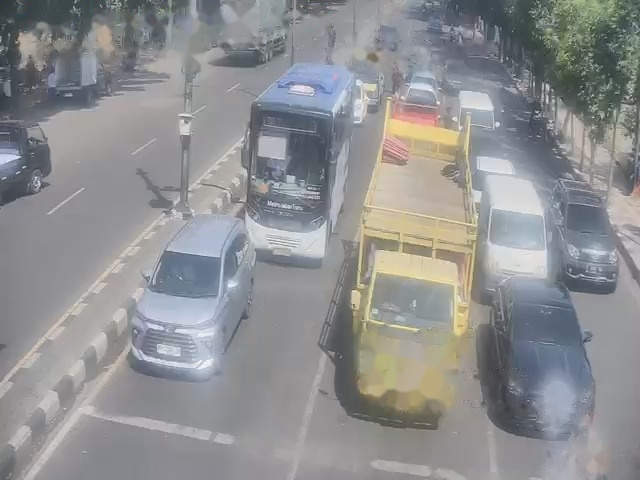Bis: (248, 61, 346, 254)
Mobil: (130, 212, 241, 378), (493, 283, 592, 434), (548, 167, 620, 286), (484, 177, 551, 283), (0, 122, 51, 193)
Truk: (358, 172, 478, 431)
